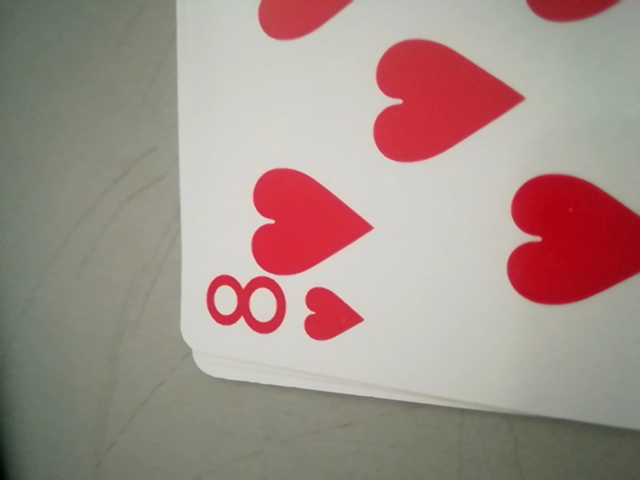hx 8: (200, 269, 380, 355)
